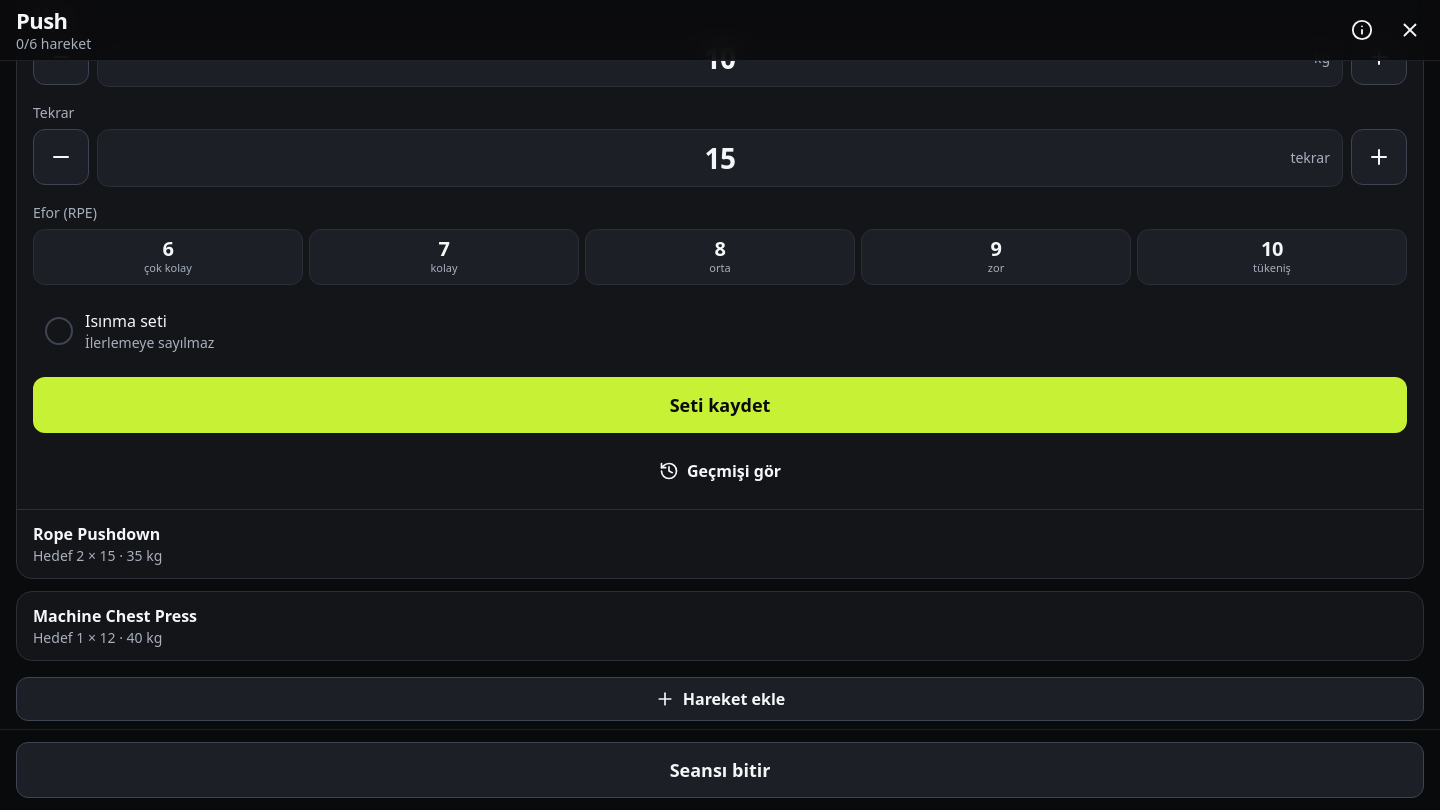
Scenario: SessionScreen with a running session › alternates between superset exercises until all rounds are done
The width and height of the screenshot is (1440, 810).
(page scrolled)
Step 1. Click the button "Seti kaydet" → x=720, y=405, box [33,377,1407,433]
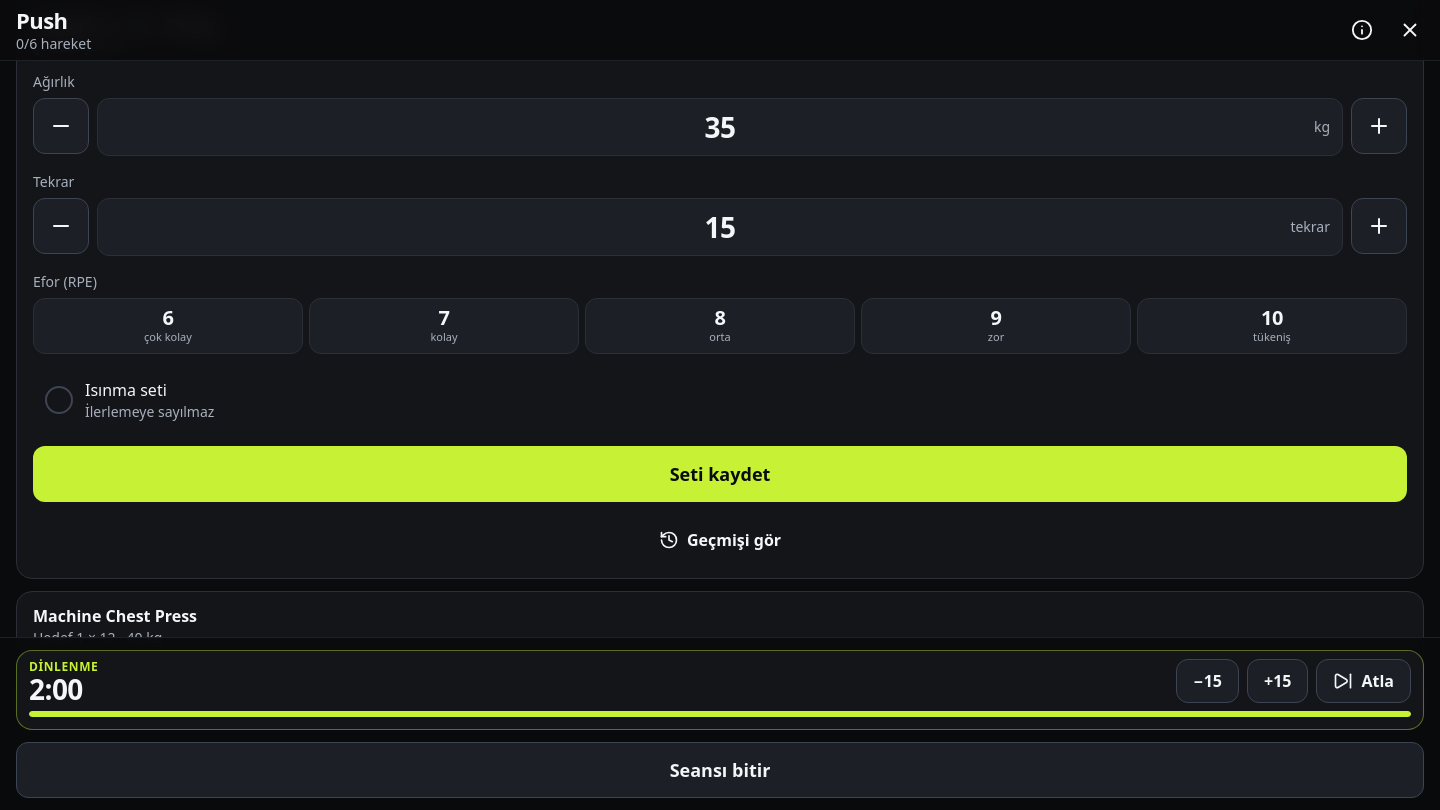
Step 2. Click the button "Seti kaydet" → x=720, y=474, box [33,446,1407,502]
(page scrolled)
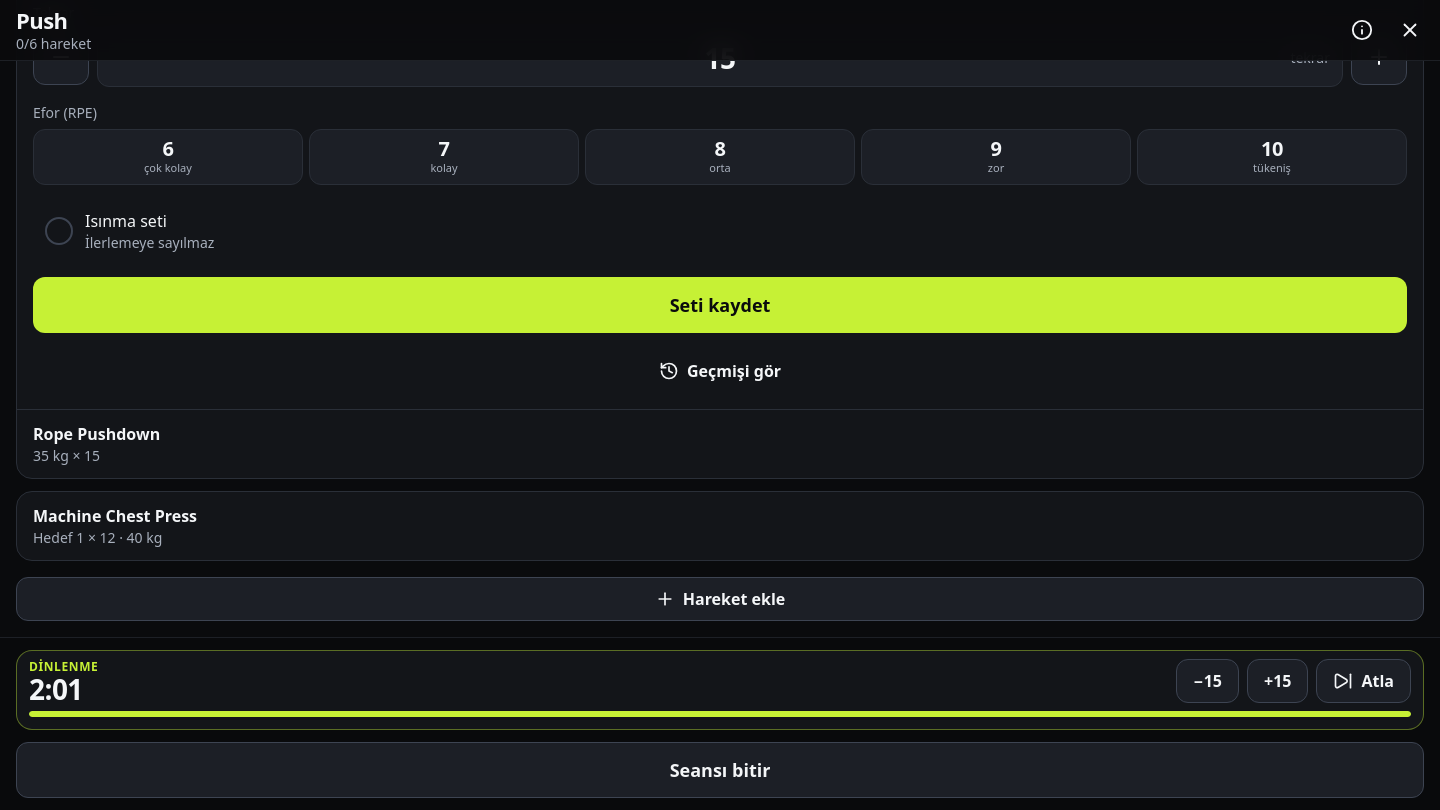
Step 3. Click the button "Seti kaydet" → x=720, y=305, box [33,277,1407,333]
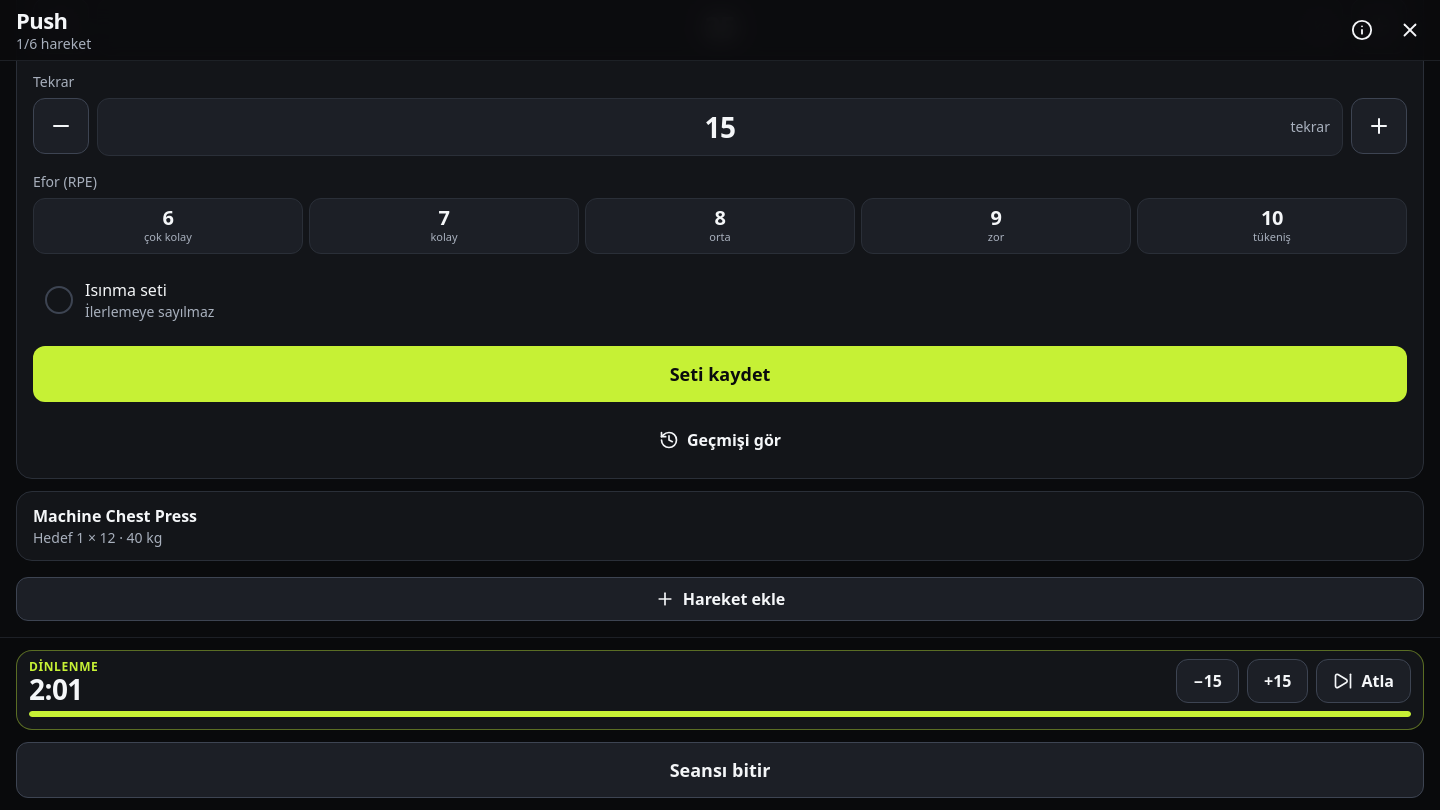
Step 4. Click the button "Seti kaydet" → x=720, y=374, box [33,346,1407,402]
(page scrolled)
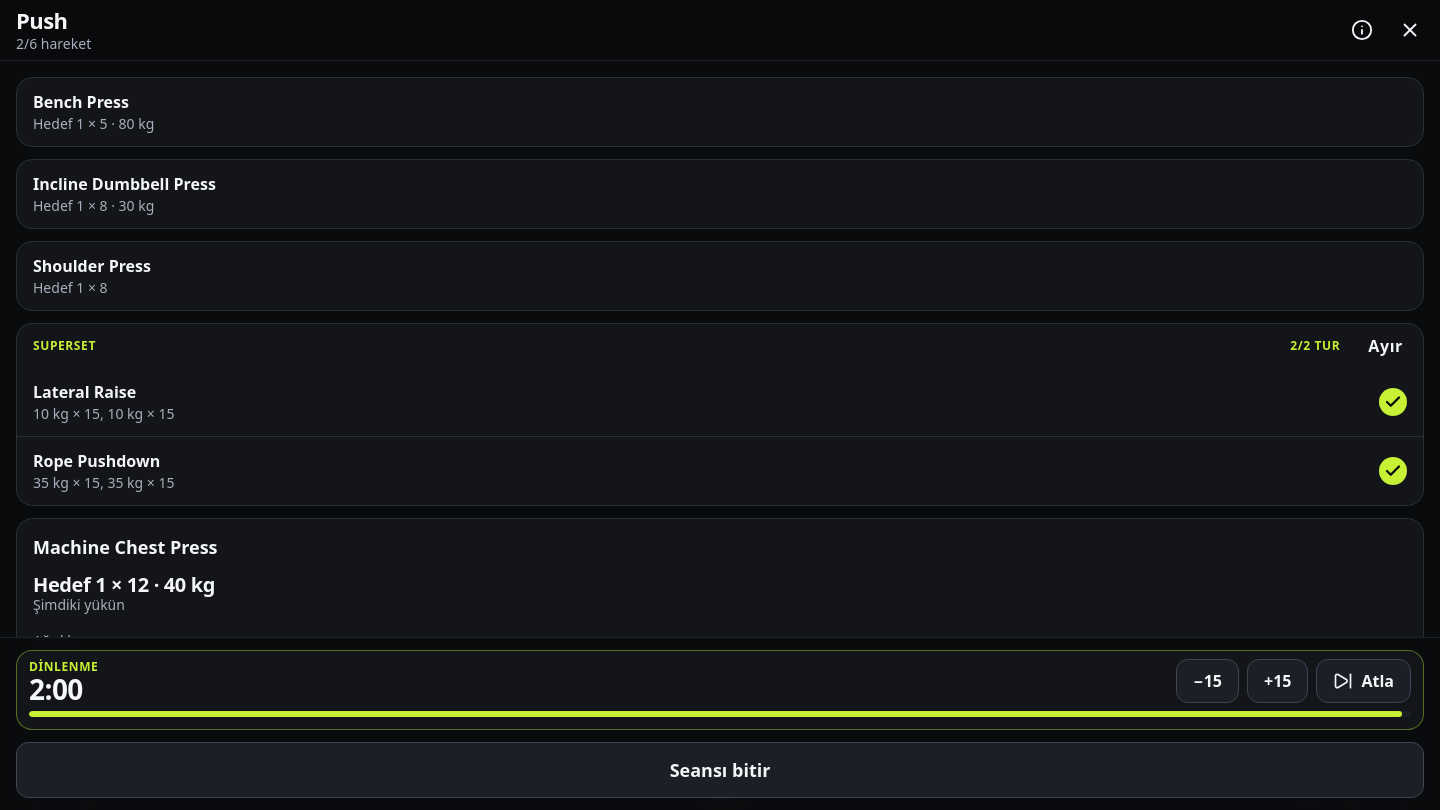
Now the text "2/2 tur" is shown, box [1290,338,1340,354]
